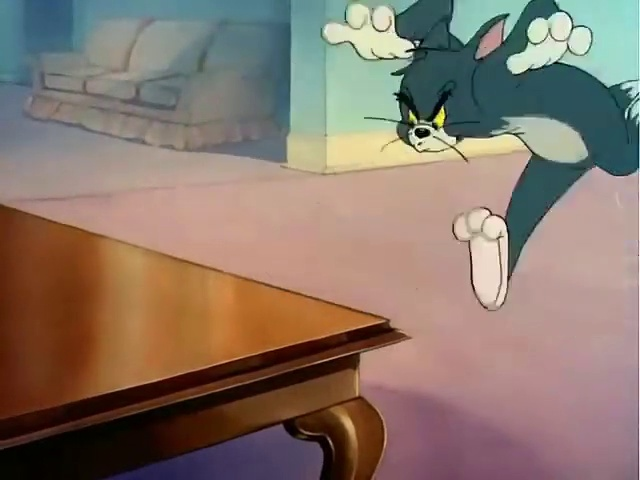tom: (344, 6, 636, 328)
